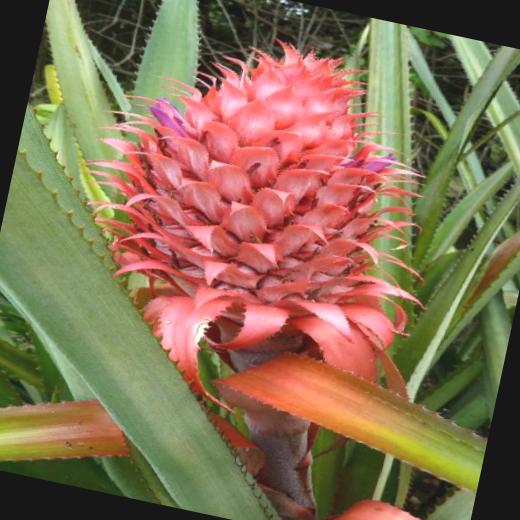Mango: (24, 3, 473, 489)
